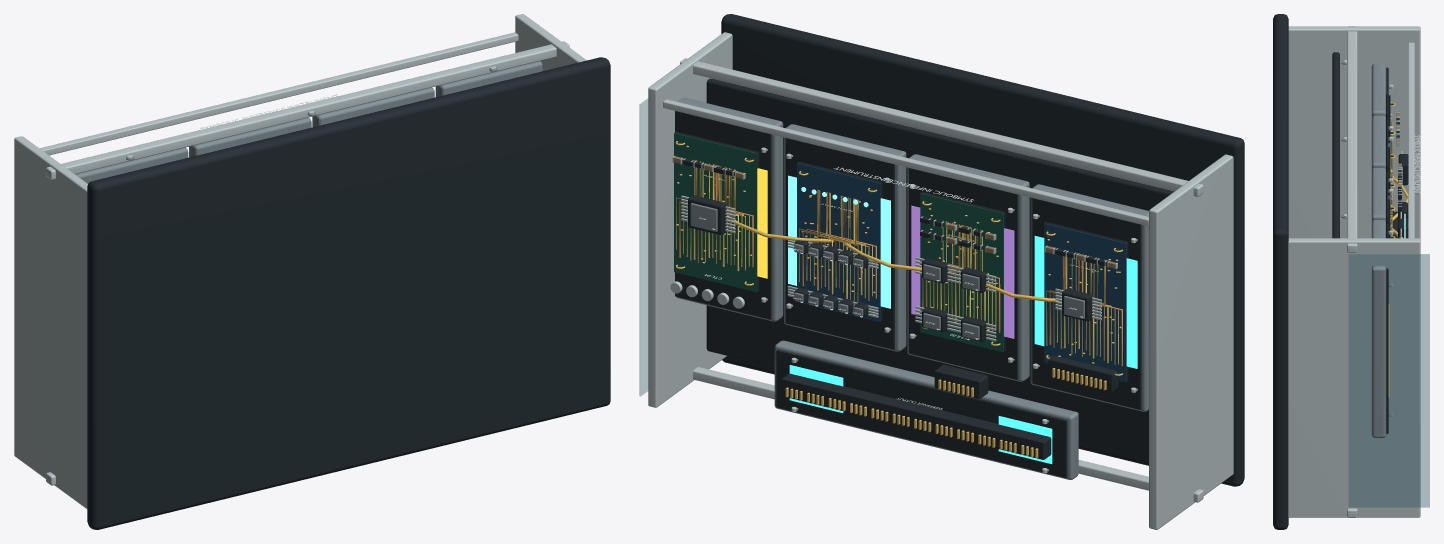
Rendered from history-rules-v003.glb.
The picture shows the model from 3 angles, left to right: view 1: azimuth 30°, elevation 25°; view 2: azimuth 150°, elevation 25°; view 3: azimuth 270°, elevation 25°; orthographic projection. The views are drawn at different scales.
Parts seen in each view (by area): view 1: GEO-instrument-base, GEO-frame-upright, GEO-frame-crossrail.001, GEO-rules-top-rail, GEO-frame-upright.001, GEO-module-carrier.002, GEO-module-carrier.001, GEO-module-carrier, GEO-module-carrier.003; view 2: GEO-instrument-base, GEO-frame-upright, GEO-rules-cabinet-back, GEO-frame-upright.001, GEO-module-faceplate.004, GEO-CTL-04-solder-mask, GEO-I/O-01-solder-mask, GEO-CMP-03-solder-mask, GEO-RULE-02-solder-mask, GEO-frame-crossrail.001, GEO-module-faceplate.001, GEO-module-faceplate.002 (+21 smaller); view 3: GEO-frame-upright.001, GEO-frame-upright, GEO-observation-side-panel, GEO-instrument-base, GEO-module-carrier.003, GEO-frame-crossrail.001, GEO-rules-cabinet-back, GEO-rules-top-rail, GEO-module-carrier.001, GEO-module-carrier, GEO-module-carrier.002, GEO-module-faceplate.003 (+2 smaller).
Boxes of the visible parts, x1,y1,x2,y2 form: GEO-instrument-base: (87,57,610,529); GEO-frame-upright: (14,136,87,508); GEO-frame-crossrail.001: (46,41,569,179); GEO-rules-top-rail: (40,32,518,155); GEO-frame-upright.001: (515,14,586,70); GEO-module-carrier.002: (312,87,434,127); GEO-module-carrier.001: (189,117,311,157); GEO-module-carrier: (75,147,188,183); GEO-module-carrier.003: (435,61,542,97); GEO-instrument-base: (721,14,1244,486); GEO-frame-upright: (1149,154,1233,529); GEO-rules-cabinet-back: (706,78,1174,458); GEO-frame-upright.001: (648,32,732,407); GEO-module-faceplate.004: (776,350,1067,477); GEO-CTL-04-solder-mask: (674,133,757,292); GEO-I/O-01-solder-mask: (1044,223,1126,382); GEO-CMP-03-solder-mask: (797,163,880,322); GEO-RULE-02-solder-mask: (920,193,1003,352); GEO-frame-crossrail.001: (680,58,1203,196); GEO-module-faceplate.001: (909,168,1018,379); GEO-module-faceplate.002: (785,138,894,349); GEO-frame-upright.001: (1288,238,1420,517); GEO-frame-upright: (1288,26,1420,239); GEO-observation-side-panel: (1349,254,1429,507); GEO-instrument-base: (1273,14,1288,529); GEO-module-carrier.003: (1371,220,1385,437); GEO-frame-crossrail.001: (1347,26,1357,252); GEO-rules-cabinet-back: (1332,52,1339,238); GEO-rules-top-rail: (1408,42,1414,238); GEO-module-carrier.001: (1371,115,1385,170); GEO-module-carrier: (1371,63,1385,117); GEO-module-carrier.002: (1371,168,1385,222); GEO-module-faceplate.003: (1386,224,1388,433).
Size of the model in its own units: 8.05 by 5.1 by 2.41.
